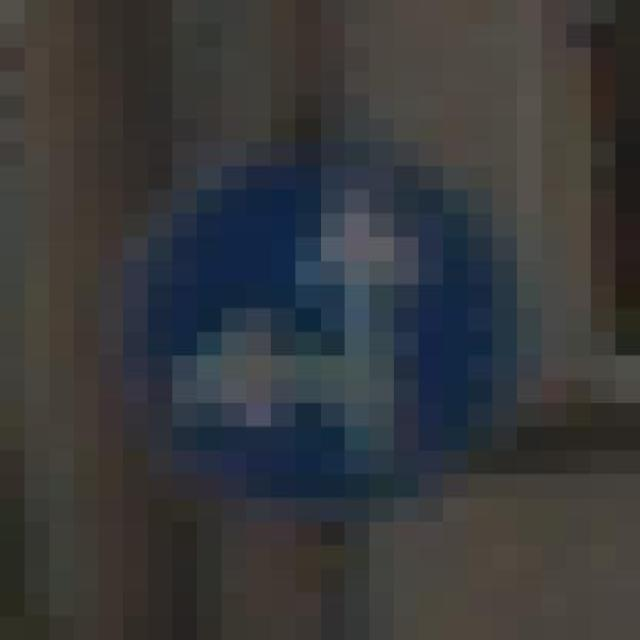Go straight or turn left: (123, 72, 566, 546)
